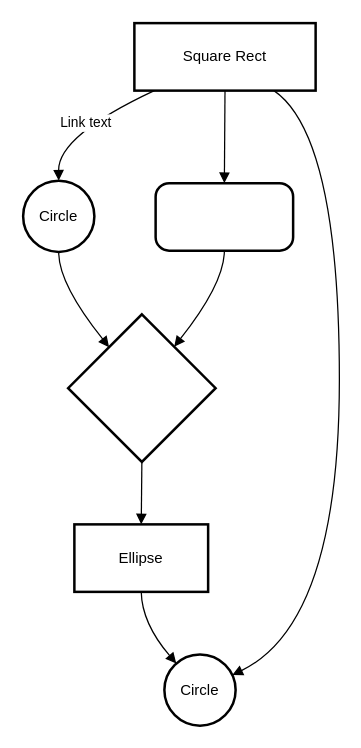
Image size: 361x748. Some labels were removed from this diagram. The centre of each missing label's shape, as x and y in pixels:
Rhombus: pixel 141 387
Round Rect: pixel 224 216
